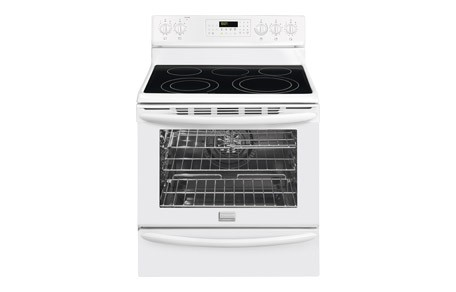stove: (136, 11, 337, 282)
